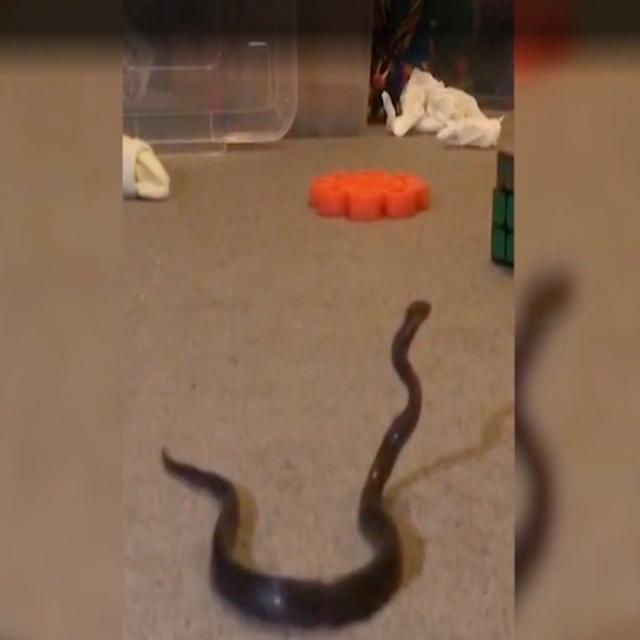Snake: (157, 288, 436, 623)
